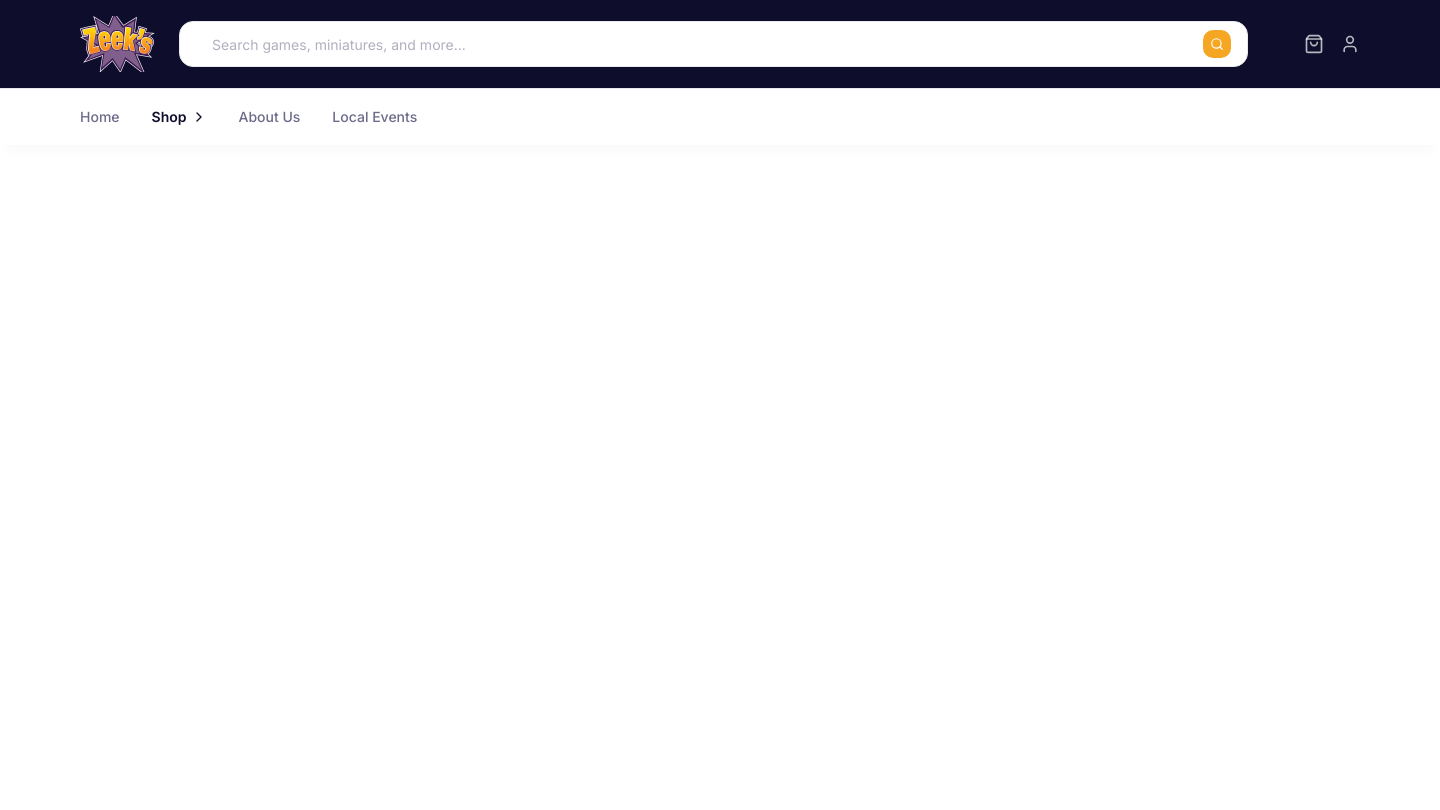
Test: ShopMenu — Desktop (US1) › should replace flat catalog links with a Shop item that opens the megamenu
expect the link "About Us" is shown: met, box [238,107,300,127]
// Click to open the megamenu.
Click the button "Shop". click: [179, 117]
box: [152,89,206,145]
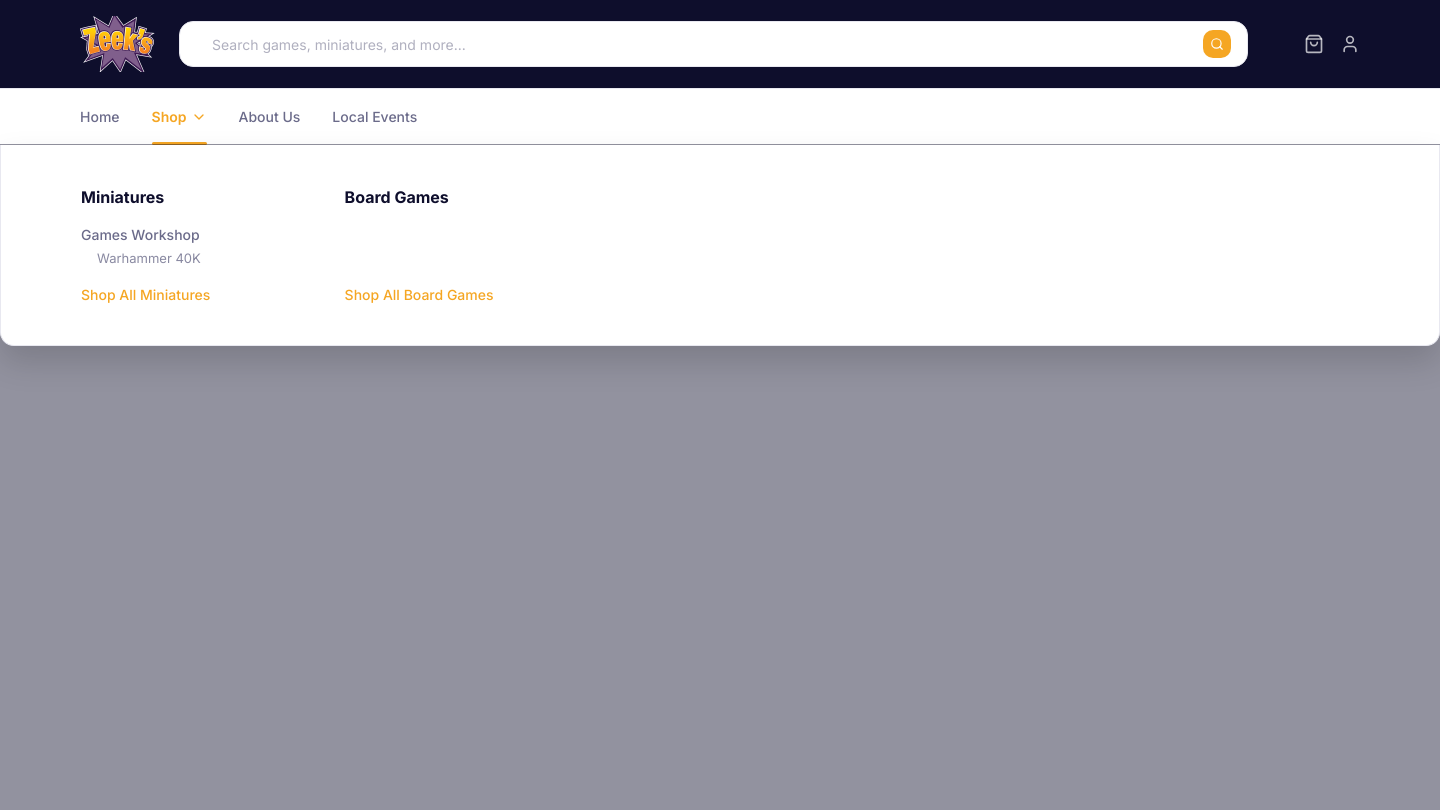
expect the link "Miniatures" is shown: met, box [81,187,164,207]
